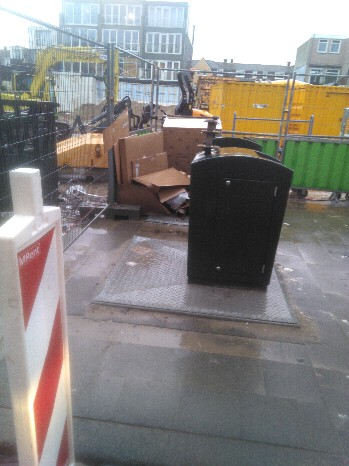Container: (187, 135, 287, 294), (210, 125, 252, 153)
Papier: (115, 135, 187, 228)
